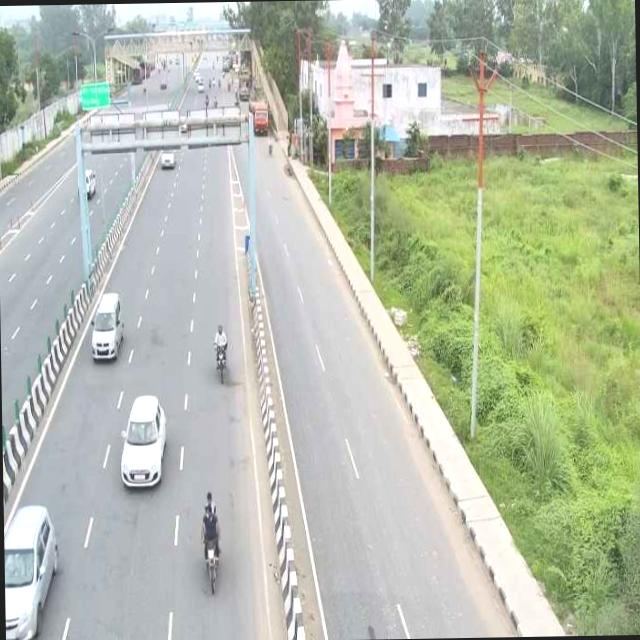car: (4, 497, 59, 640), (116, 391, 169, 488), (86, 286, 125, 363)
